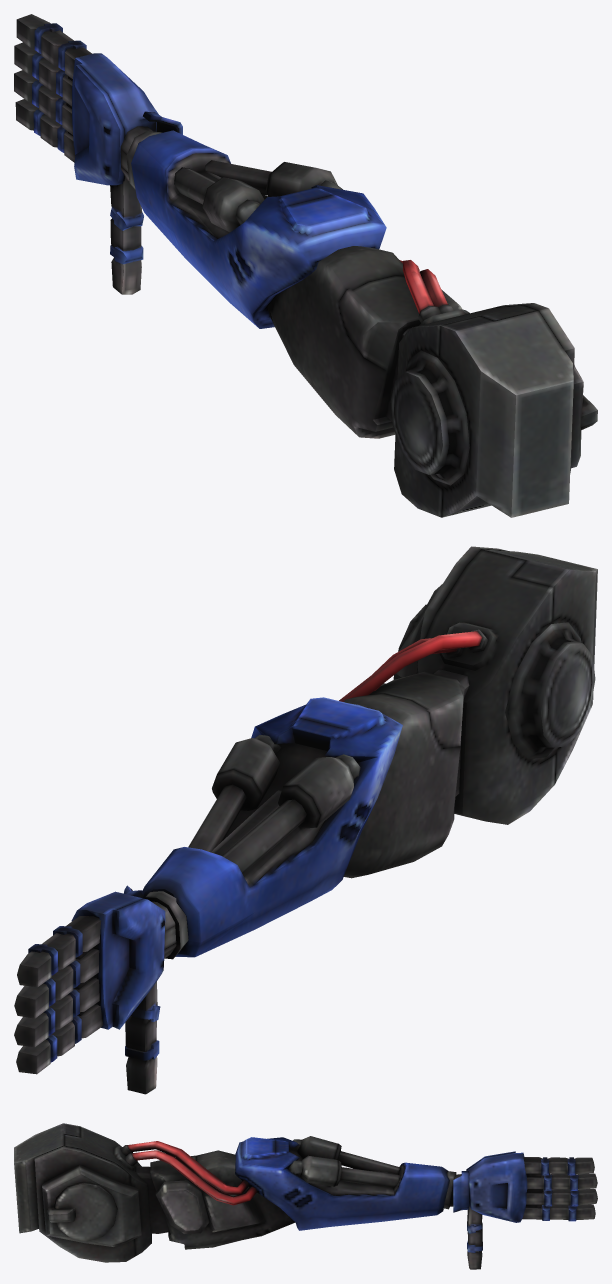
The model's file is feedbacker.obj.
3 views of the same model, one above another, from view 1: azimuth 30°, elevation 25°; view 2: azimuth 150°, elevation 25°; view 3: azimuth 270°, elevation 25° (orthographic). The views are drawn at different scales.
Parts seen in each view (by area): view 1: Feedbacker_0; view 2: Feedbacker_0; view 3: Feedbacker_0.
Boxes of the visible parts, bbox=[...] form: Feedbacker_0: bbox=[14, 14, 597, 517]; Feedbacker_0: bbox=[14, 546, 597, 1094]; Feedbacker_0: bbox=[14, 1123, 597, 1269].
Size of the model in its own units: 0.0357 by 0.0525 by 0.208.
Materials: 1 (1 with a texture image).
